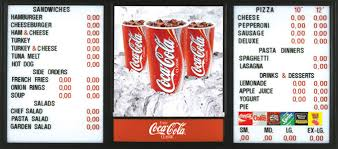coke: (143, 20, 182, 93)
